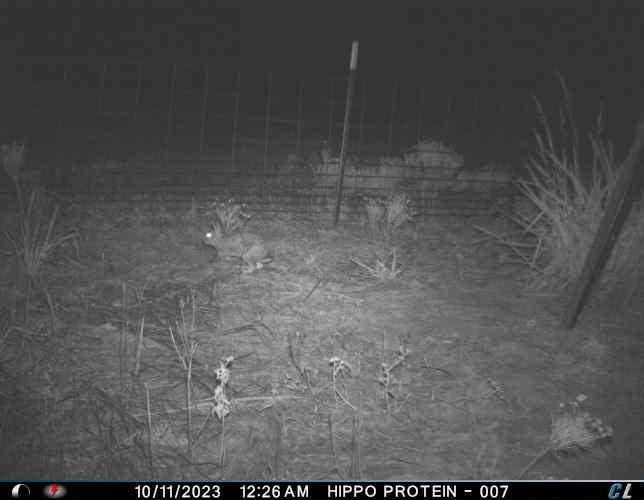Rabbit: (202, 218, 275, 273)
